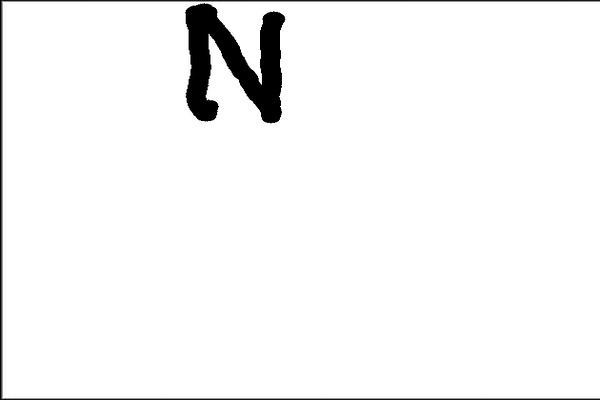N: (169, 2, 291, 127)
